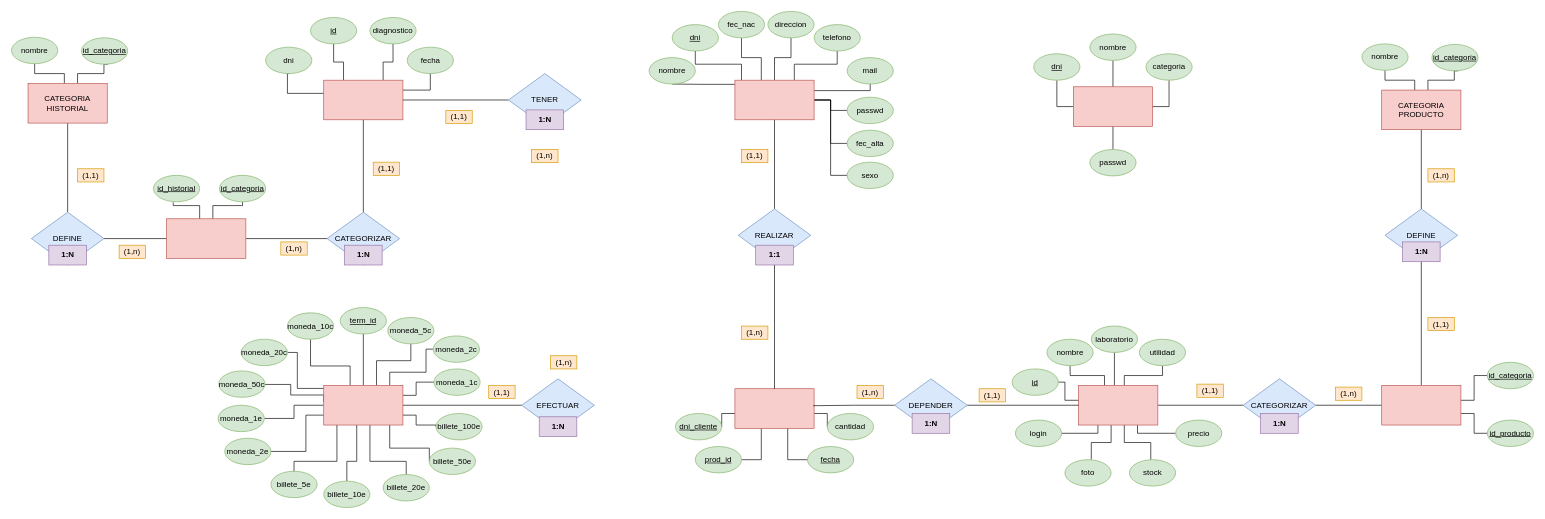
Image size: 1545x519. Some labels were removed from this diagram. Each missing label, with the centre of its shape:
"CATEGORIAS HISTORIAL" belongs at (x=206, y=238).
"CATEGORIAS PRODUCTO" belongs at (x=1421, y=405).
"CLIENTE" belongs at (x=774, y=100).
"HISTORIAL" belongs at (x=363, y=100).
"PERSONAL" belongs at (x=1113, y=106).
"PRODUCTO" belongs at (x=1118, y=405).
"TERMINAL" belongs at (x=363, y=405).
"TRANSACCION" belongs at (x=774, y=408).
